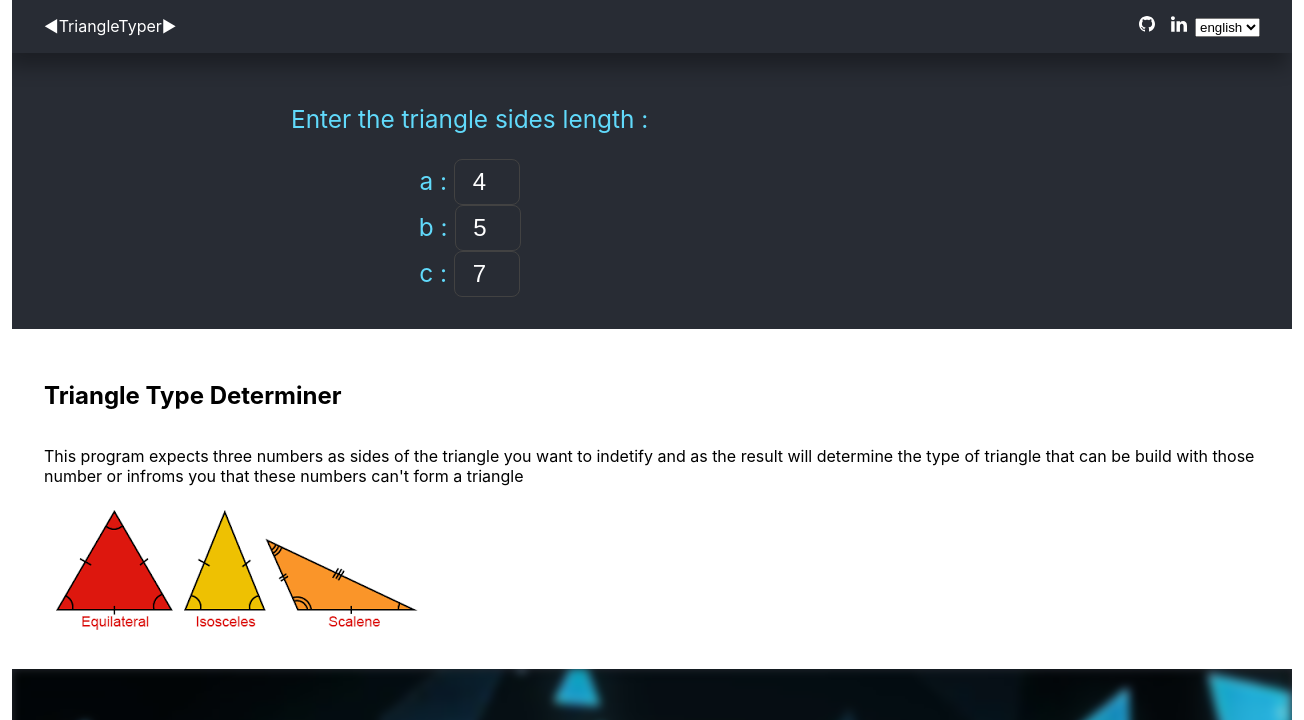
Scenario: UI only features › will change the langauage
Select "فارسی" in the dropdown with class "header_button" at x=1228, y=28, box [1195,18,1260,37]
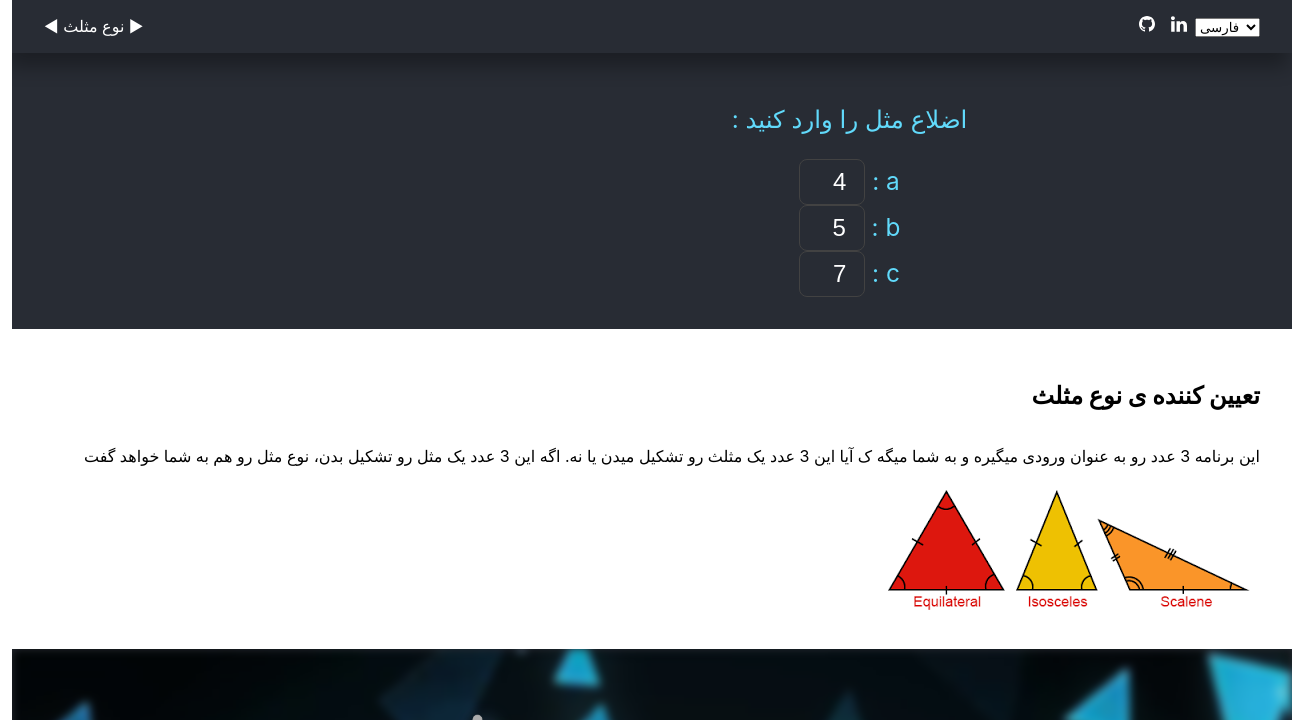
Expected: the text "اضلاع مثل را وارد کنید" is shown, [746,104,968,134]
